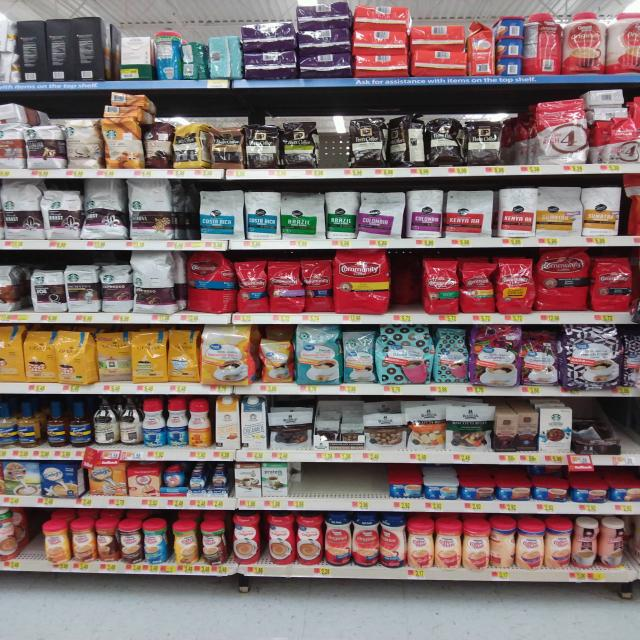void: (304, 464, 344, 510), (398, 249, 422, 324), (346, 465, 386, 510), (507, 107, 533, 175), (10, 516, 41, 572), (322, 120, 344, 177)
